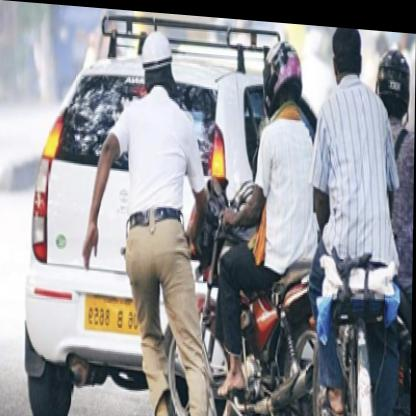With Helmet: (260, 30, 306, 116)
